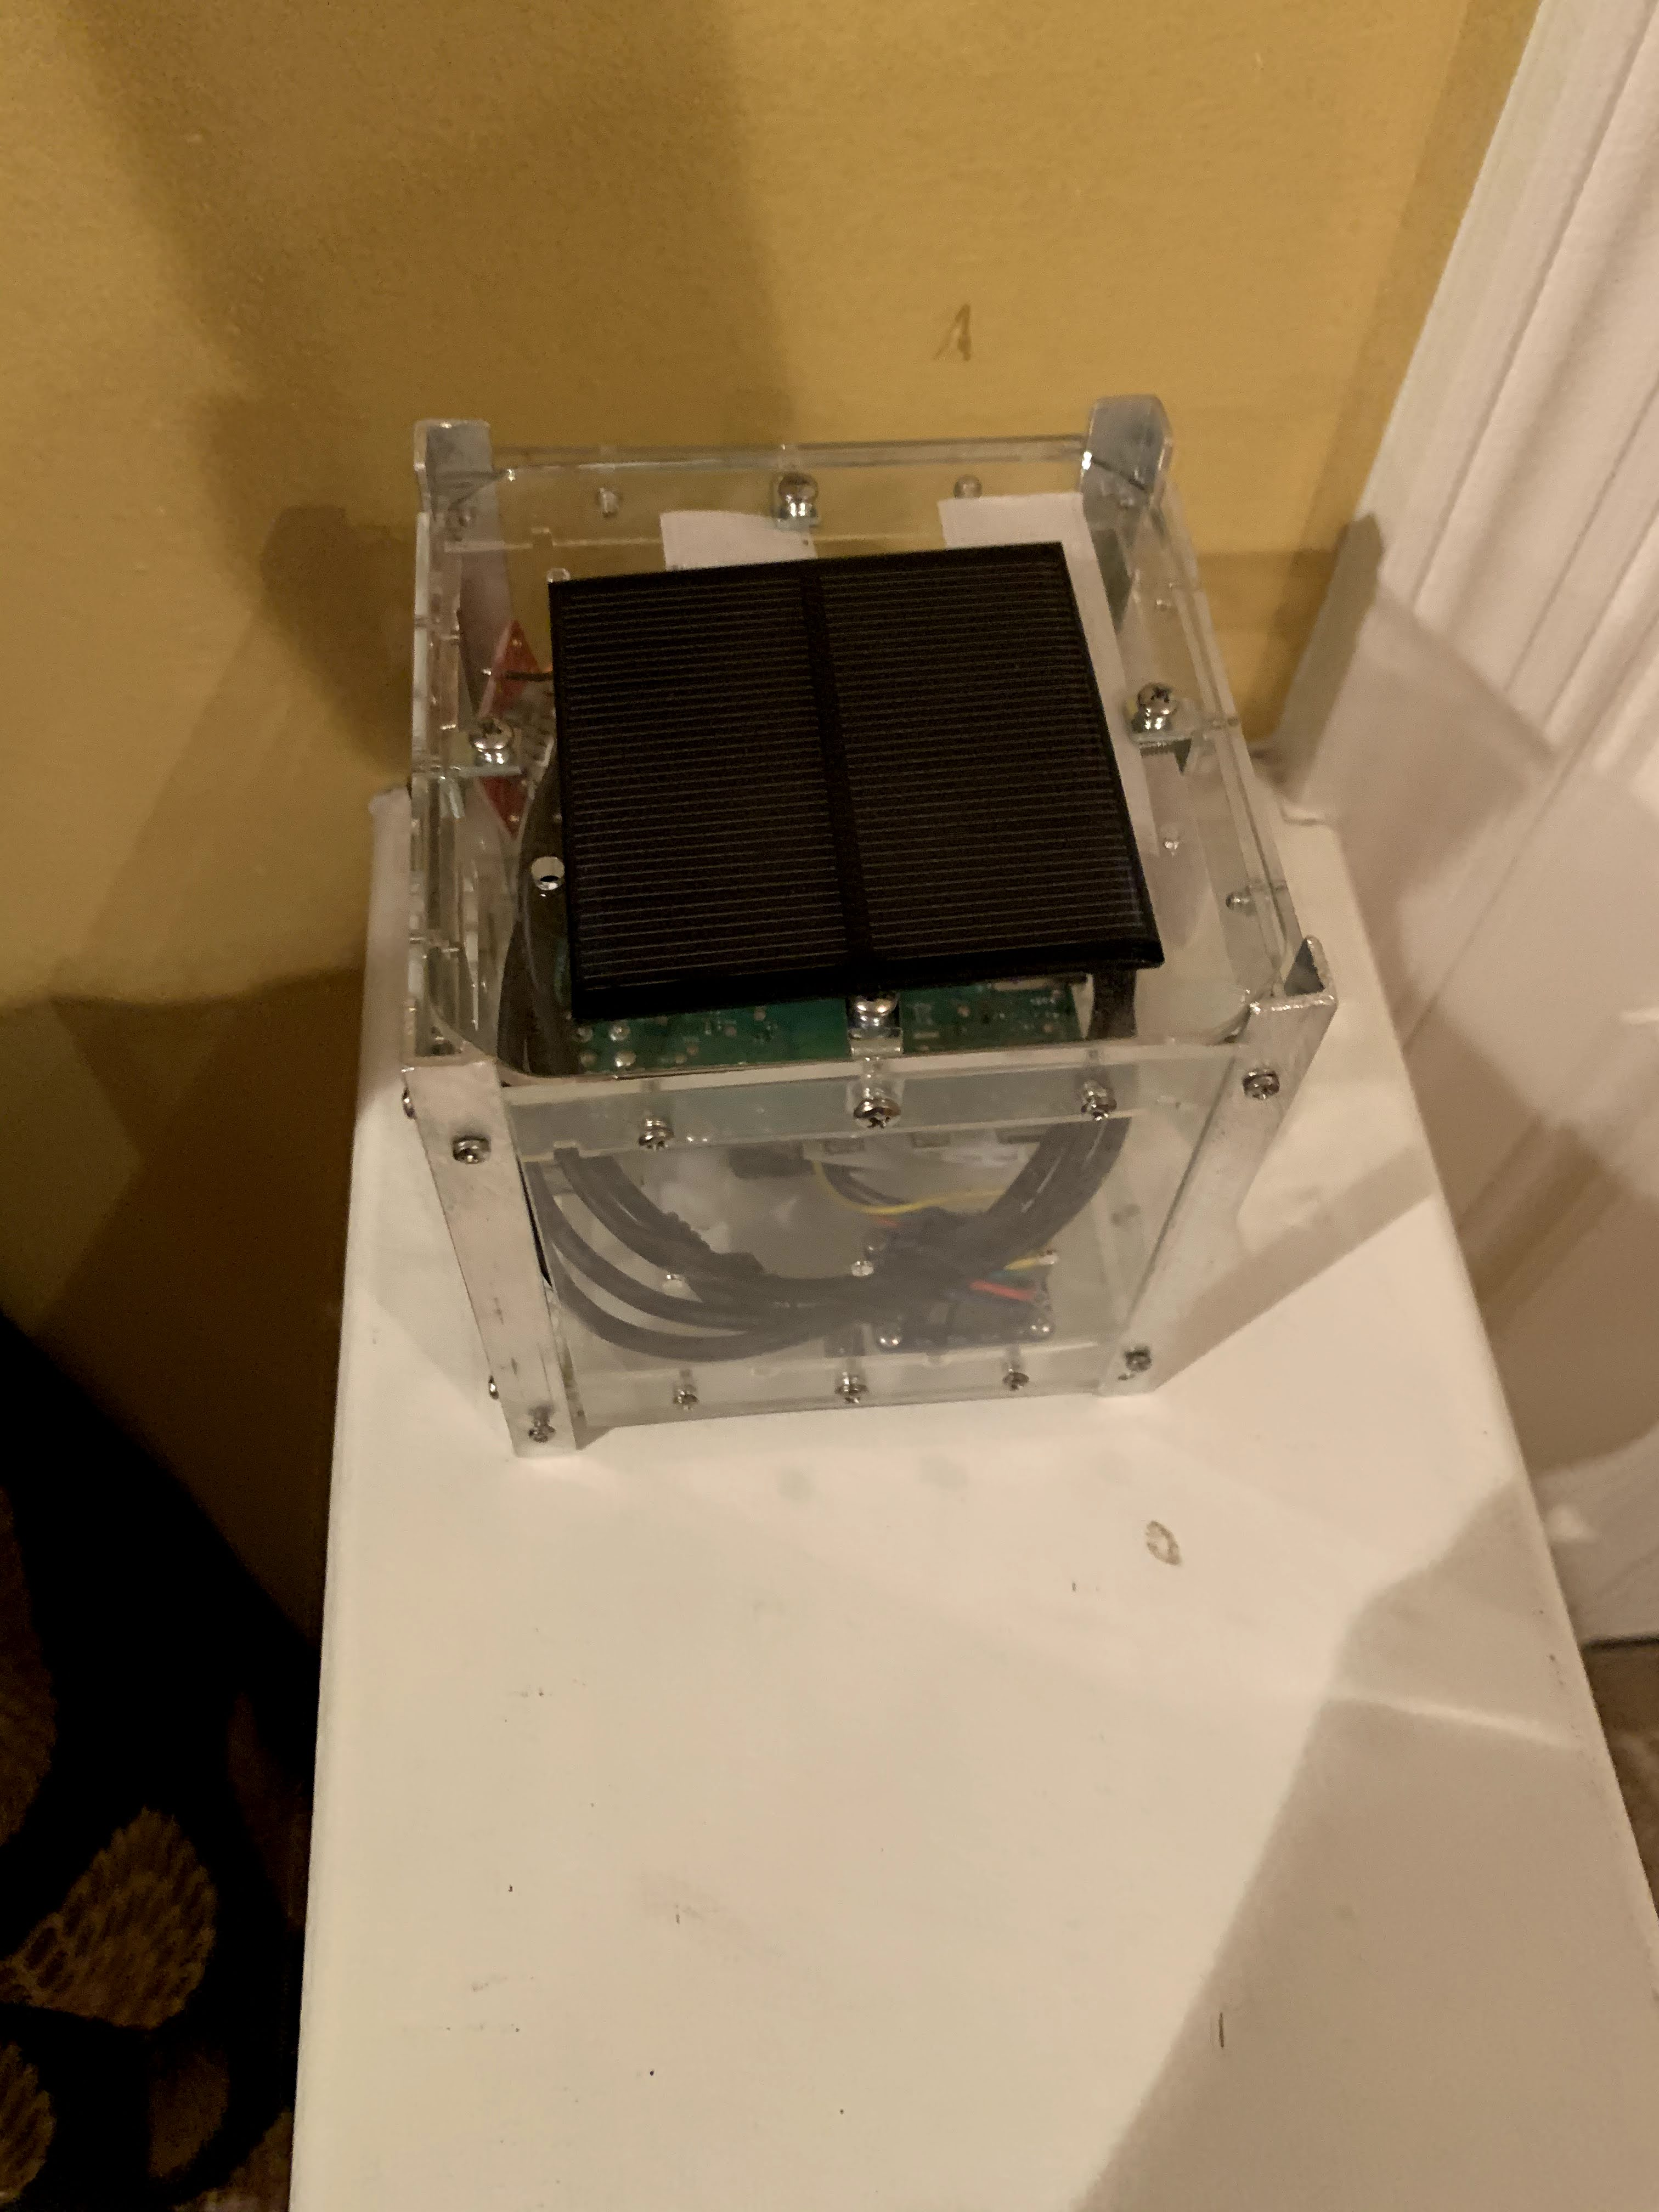Space-debris-cubesat: (366, 359, 1349, 1482)
